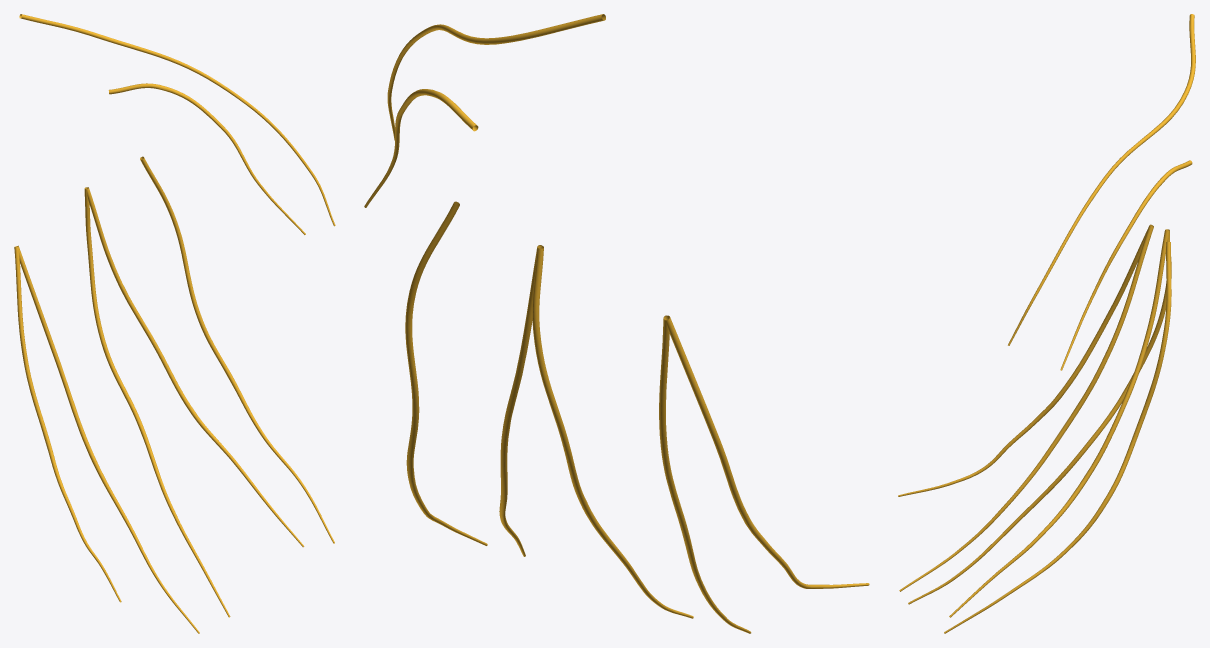
Rendered from nervoso-proper-palmar-digital-branches-of-median-nerve-l.glb.
3 renders of one model, left to right at view 1: azimuth 30°, elevation 25°; view 2: azimuth 150°, elevation 25°; view 3: azimuth 270°, elevation 25°, orthographic. The views are drawn at different scales.
Parts seen in each view (by area): view 1: Proper palmar digital branches of median nerve.l; view 2: Proper palmar digital branches of median nerve.l; view 3: Proper palmar digital branches of median nerve.l.
Boxes of the visible parts, x1,y1,x2,y2 form: Proper palmar digital branches of median nerve.l: (14,14,335,633); Proper palmar digital branches of median nerve.l: (364,14,869,633); Proper palmar digital branches of median nerve.l: (898,14,1195,633).
Bounding box in the file's own units: 0.067 × 0.1263 × 0.0611.
